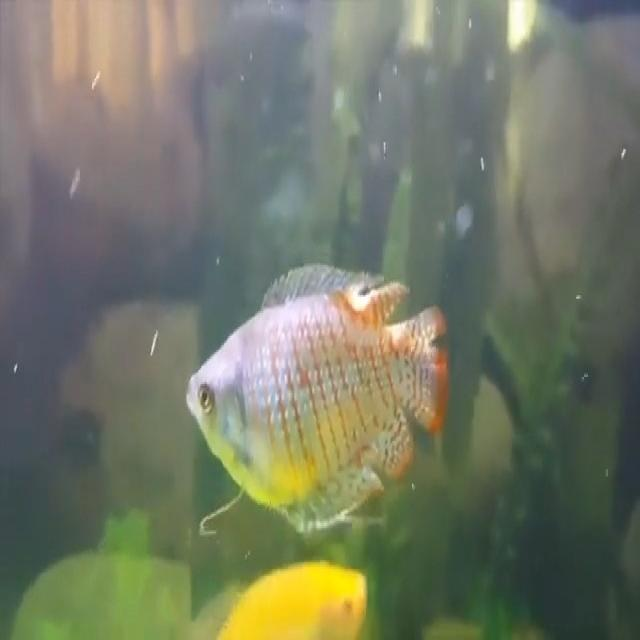fish: (184, 258, 474, 533), (218, 555, 368, 640)
